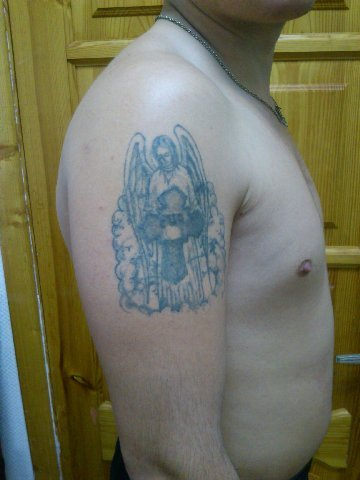tatu1_angel: (109, 119, 227, 311)
tatu9_krest: (140, 182, 201, 288)
